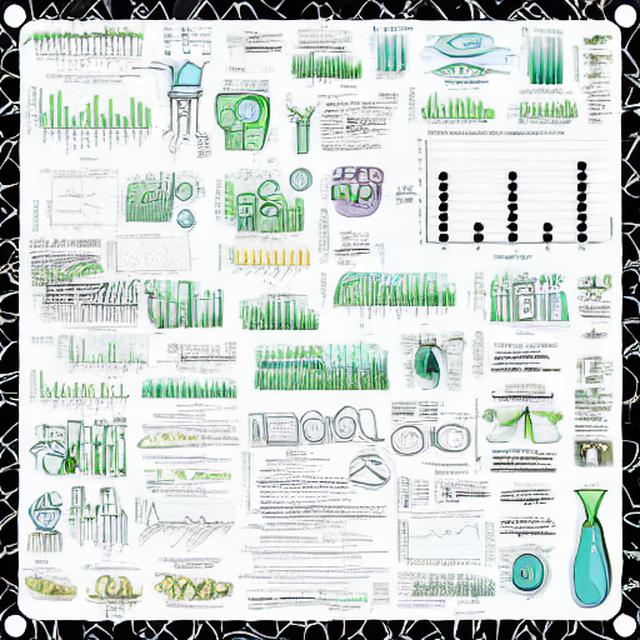Graph: (389, 126, 603, 266), (24, 71, 154, 165), (133, 489, 235, 554), (54, 324, 151, 380), (396, 514, 484, 570), (222, 233, 313, 284), (106, 237, 176, 278), (44, 193, 104, 231)
